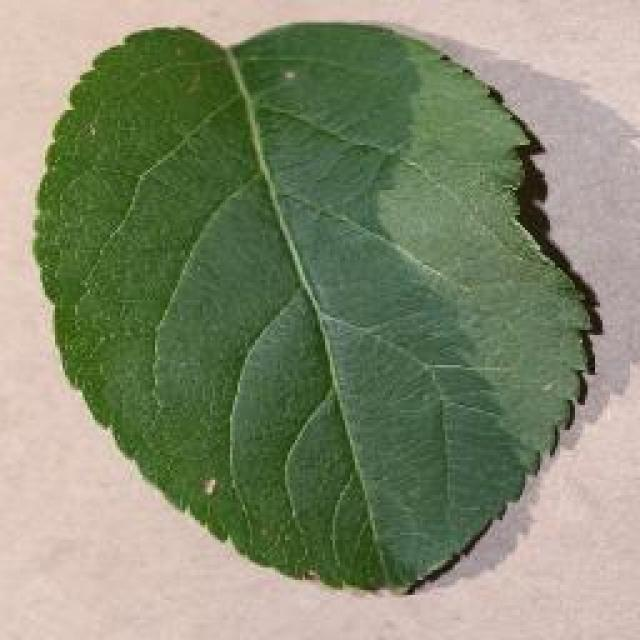apple healthy: (30, 17, 602, 595)
